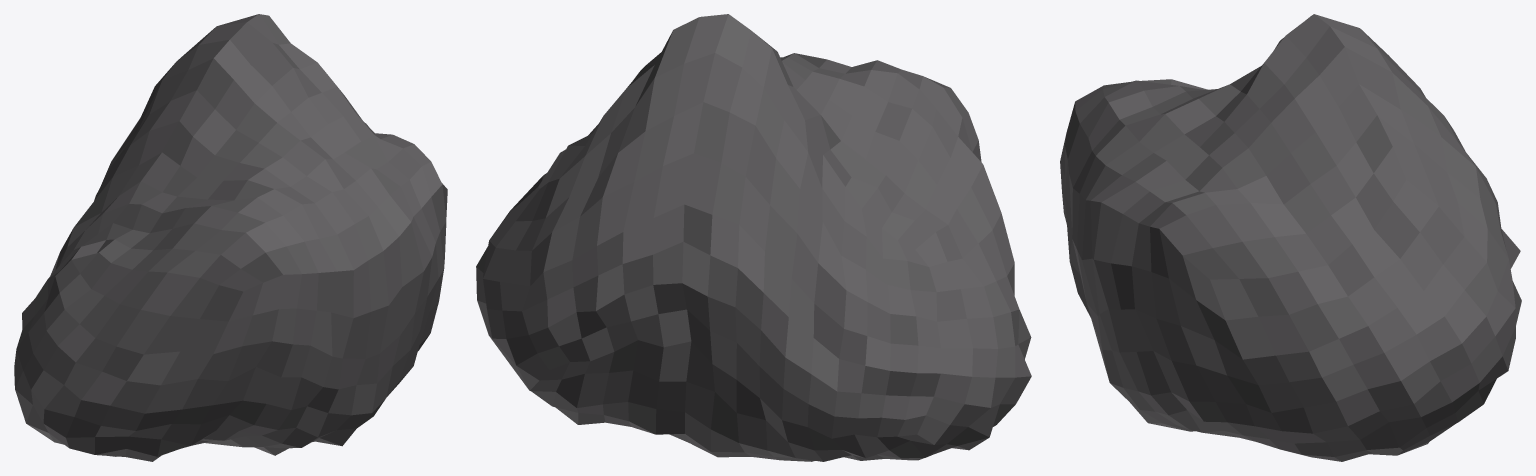
File: Rock04.fbx
3 renders of one model, left to right at view 1: azimuth 30°, elevation 25°; view 2: azimuth 150°, elevation 25°; view 3: azimuth 270°, elevation 25°, orthographic. The views are drawn at different scales.
Visible parts, largest first — view 1: Rock04; view 2: Rock04; view 3: Rock04.
Boxes of the visible parts, x1=… form: Rock04: x1=14, y1=14, x2=447, y2=461; Rock04: x1=476, y1=14, x2=1031, y2=461; Rock04: x1=1060, y1=14, x2=1521, y2=461.
Bounding box in the file's own units: 448 × 387 × 387.
